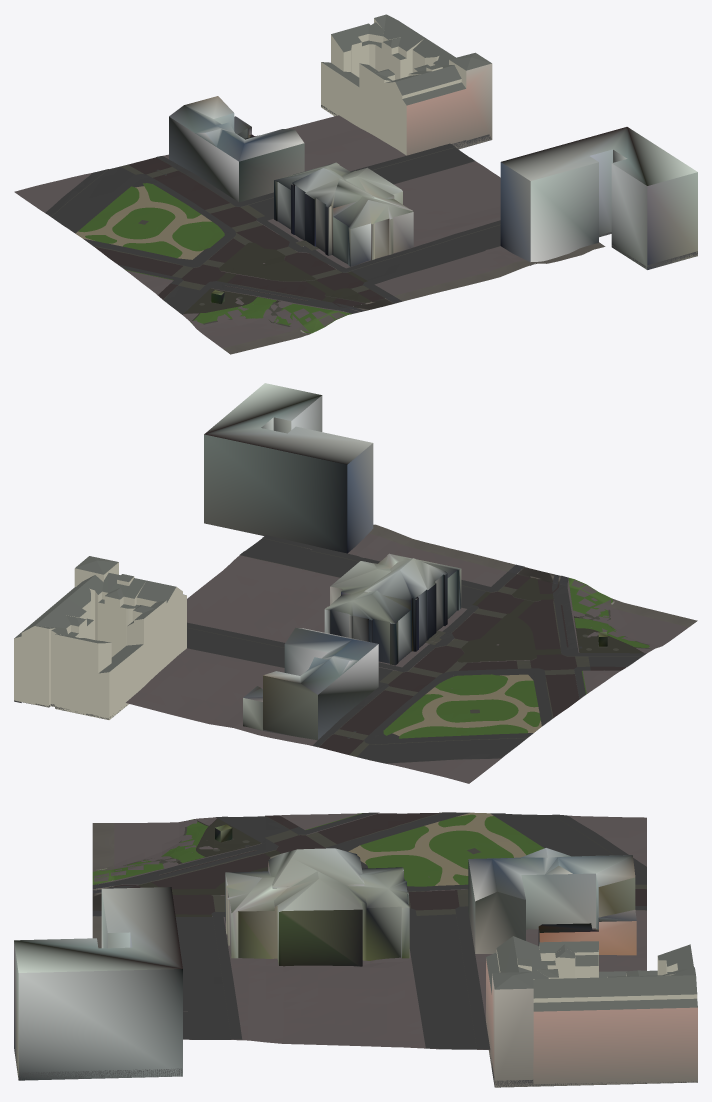
3 views of the same model, one above another, from view 1: azimuth 30°, elevation 25°; view 2: azimuth 150°, elevation 25°; view 3: azimuth 270°, elevation 25° (orthographic). The views are drawn at different scales.
Parts seen in each view (by area): view 1: c_m03_p05; view 2: c_m03_p05; view 3: c_m03_p05.
Part boxes in pixels (x1=…): c_m03_p05: x1=14, y1=14, x2=697, y2=354; c_m03_p05: x1=14, y1=383, x2=697, y2=783; c_m03_p05: x1=14, y1=812, x2=697, y2=1087.
Bounding box in the file's own units: 150 × 32.7 × 158.
